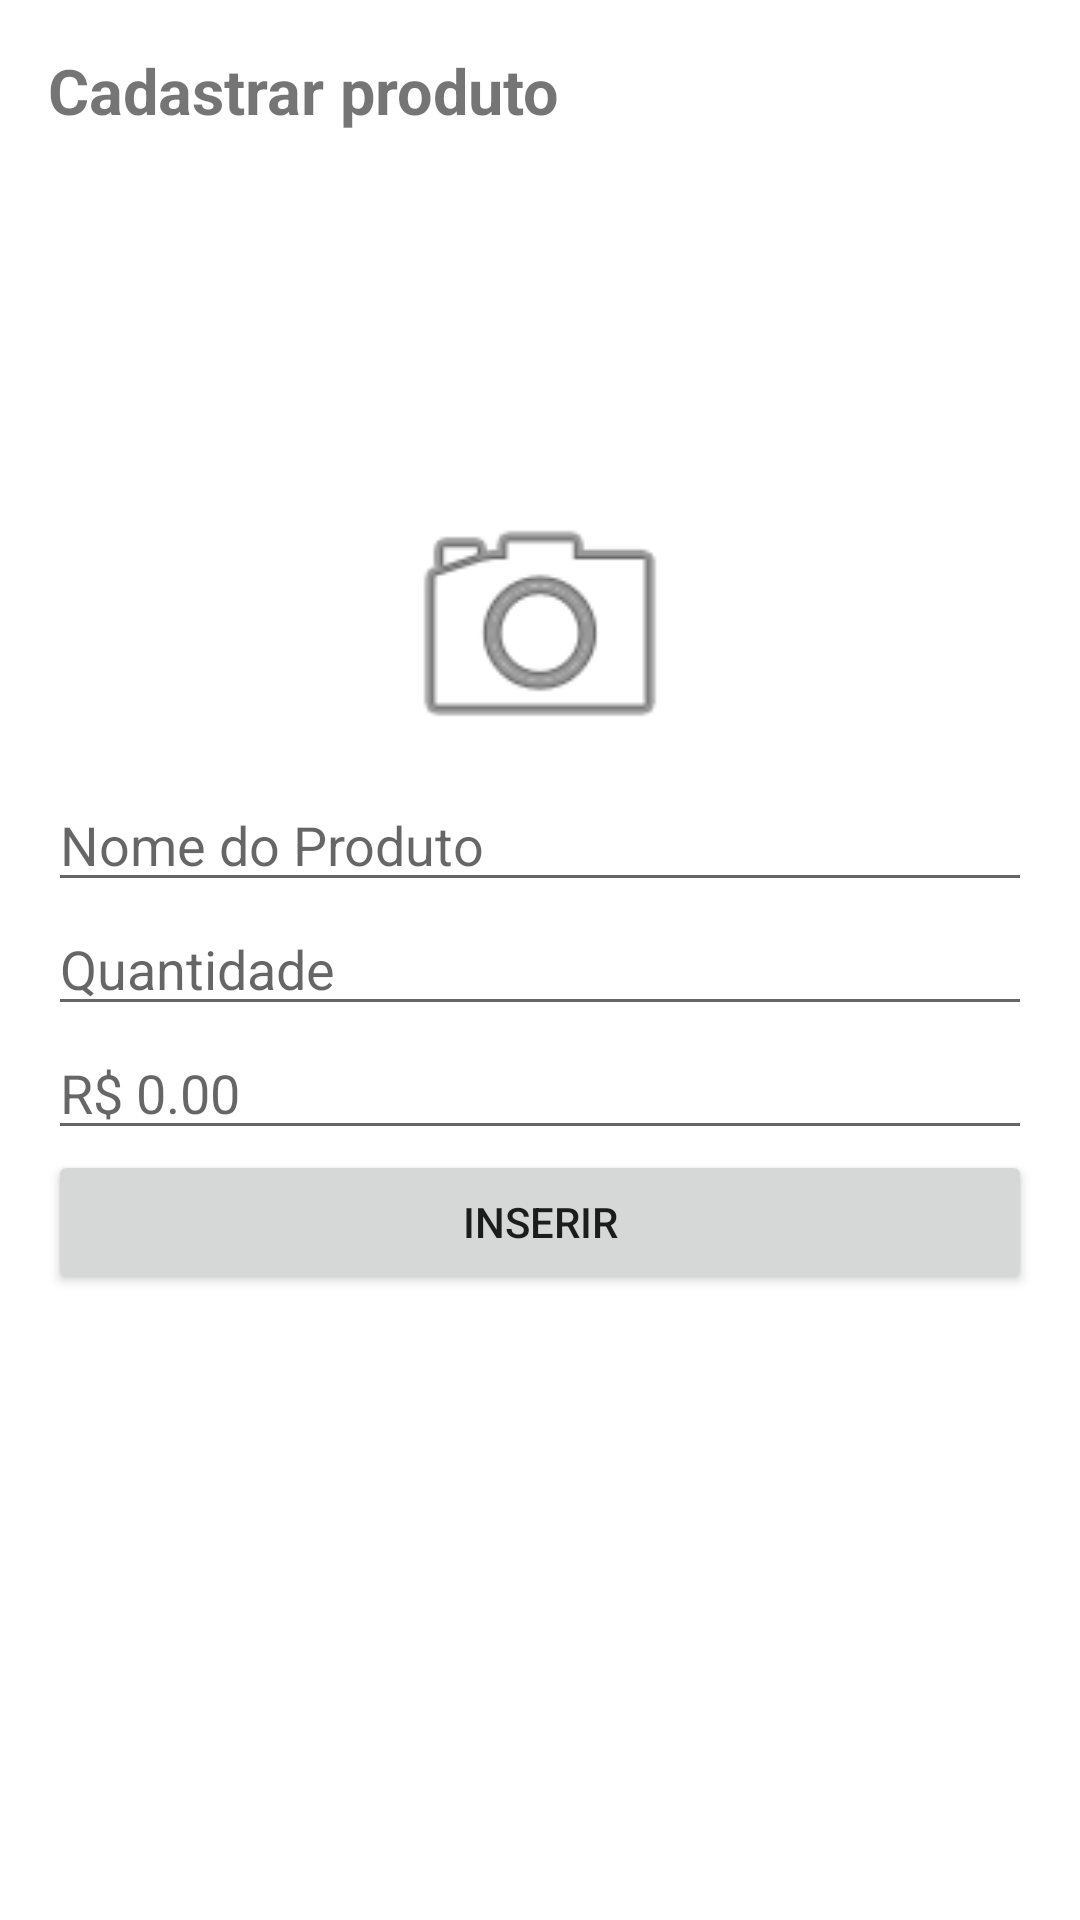

Where to tap for icons on this 1080w x 1920h app screen, as (x=x, y=y):
camera: (x=540, y=623)
